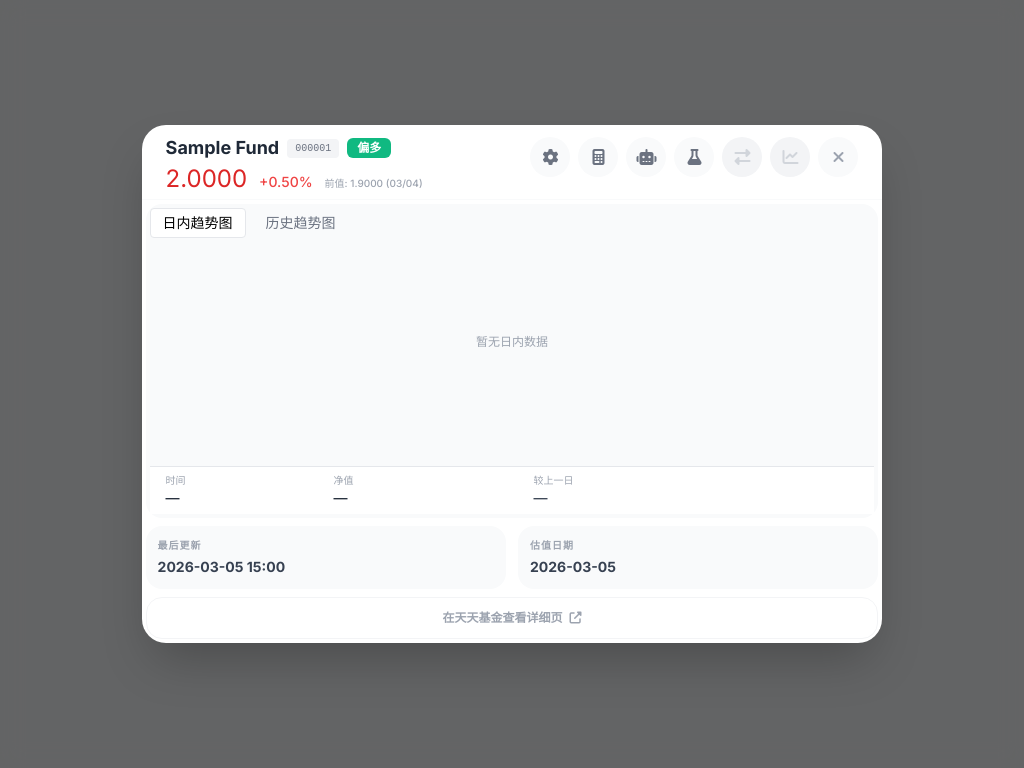
Test case: 基金份额计算器 › 正常金额计算份额（精确到2位小数）
The width and height of the screenshot is (1024, 768).
Check: the button "历史趋势图" is shown, box [254,209,348,237]
Click the button named "基金份额计算器". click: (598, 157)
box: [578,137,618,177]
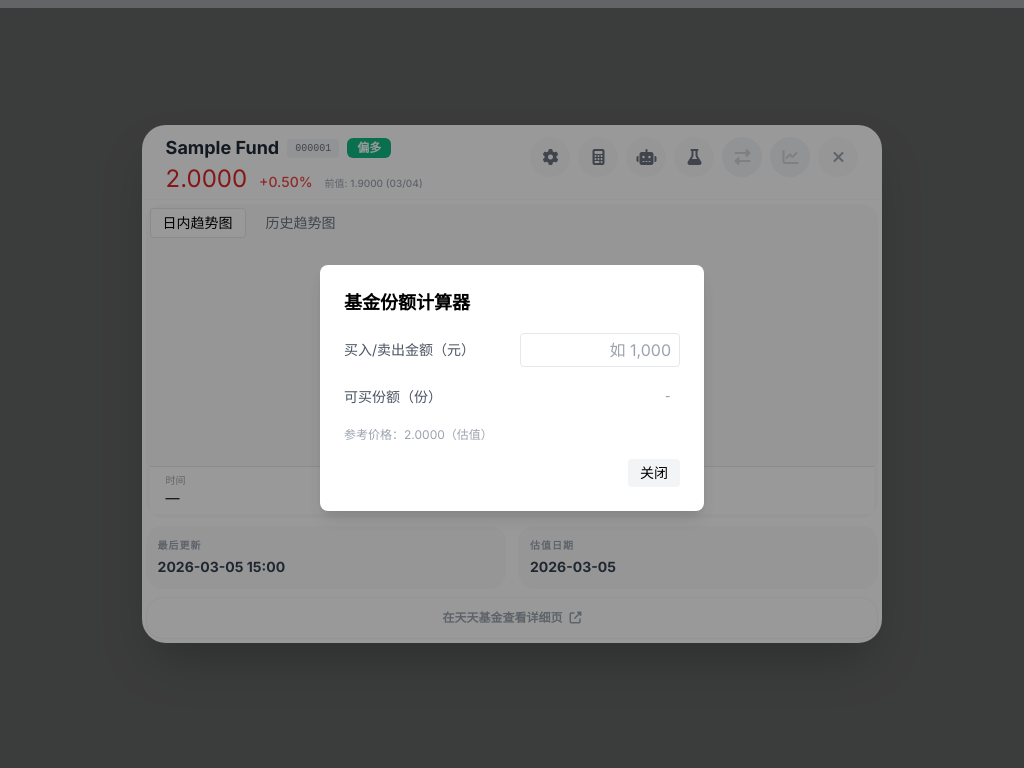
Type "1000" into the field named "计算器金额输入". click: (600, 350)
box: [520,333,680,367]
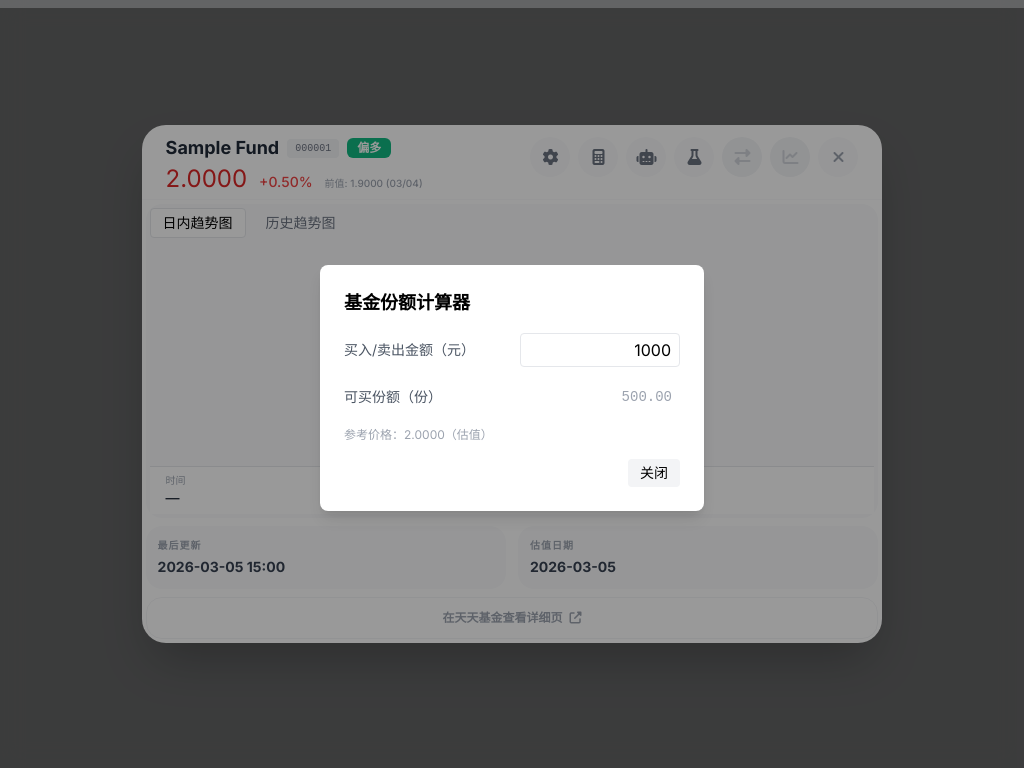
Check: the text named "计算器份额输出" reads "500.00", box [622,389,672,405]
